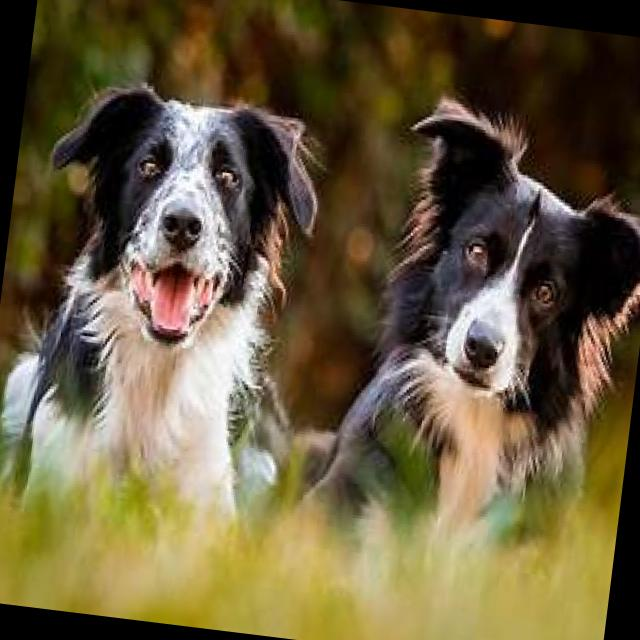dog: (294, 82, 640, 578), (0, 79, 331, 554)
